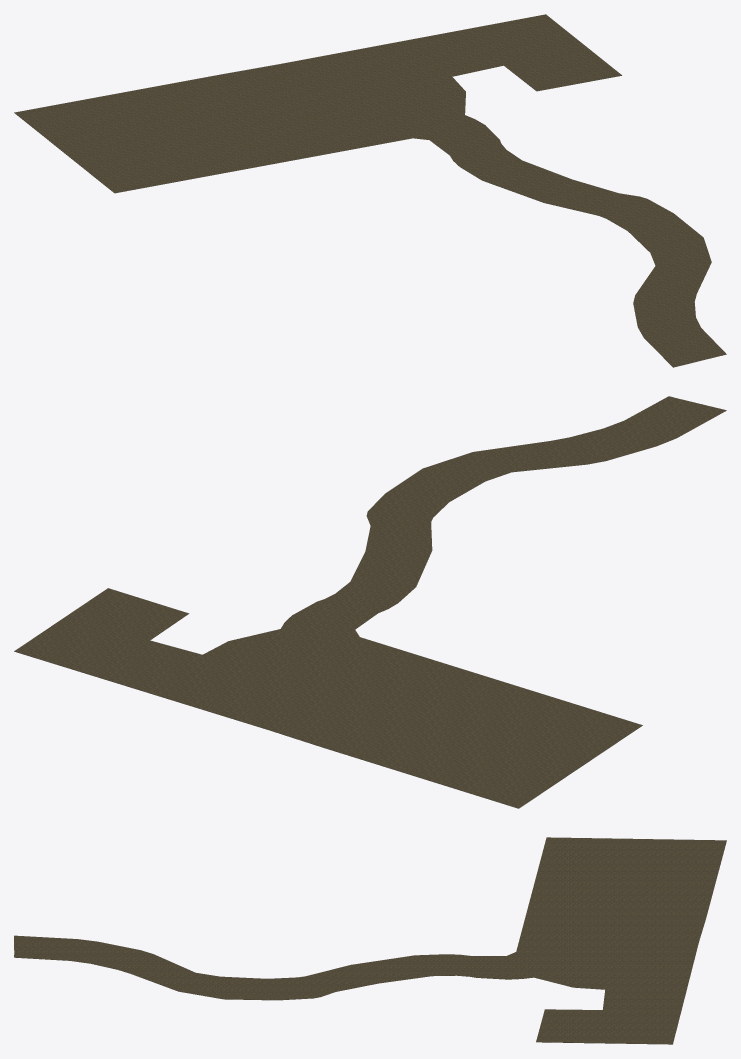
Rendered from Ground_Soil.fbx.
3 views of the same model, one above another, from view 1: azimuth 30°, elevation 25°; view 2: azimuth 150°, elevation 25°; view 3: azimuth 270°, elevation 25° (orthographic). The views are drawn at different scales.
Parts seen in each view (by area): view 1: Ground_Soil; view 2: Ground_Soil; view 3: Ground_Soil.
Boxes of the visible parts, left/top/right/bottom form: Ground_Soil: left=14, top=14, right=726, bottom=367; Ground_Soil: left=14, top=396, right=726, bottom=808; Ground_Soil: left=14, top=837, right=726, bottom=1044.
Size of the model in its own units: 463 by 0.1649 by 674.
